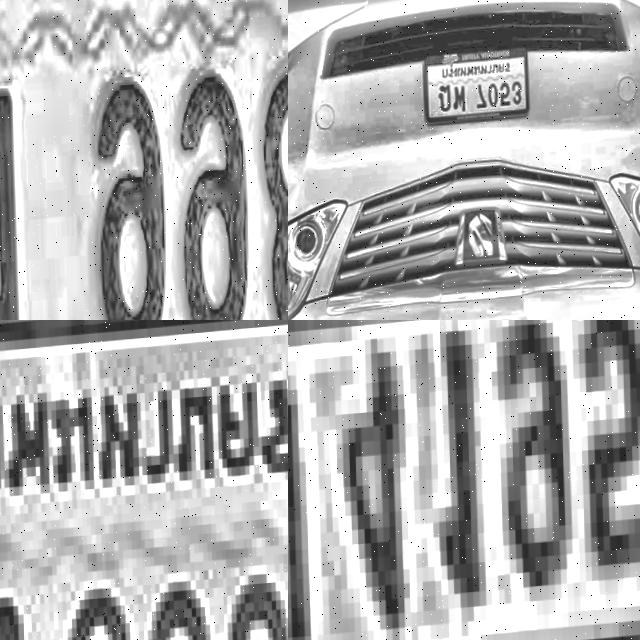license-plate: (288, 320, 640, 640), (0, 0, 288, 320), (0, 320, 288, 640), (420, 50, 529, 132)
